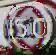Speed limit: (10, 7, 51, 51)
